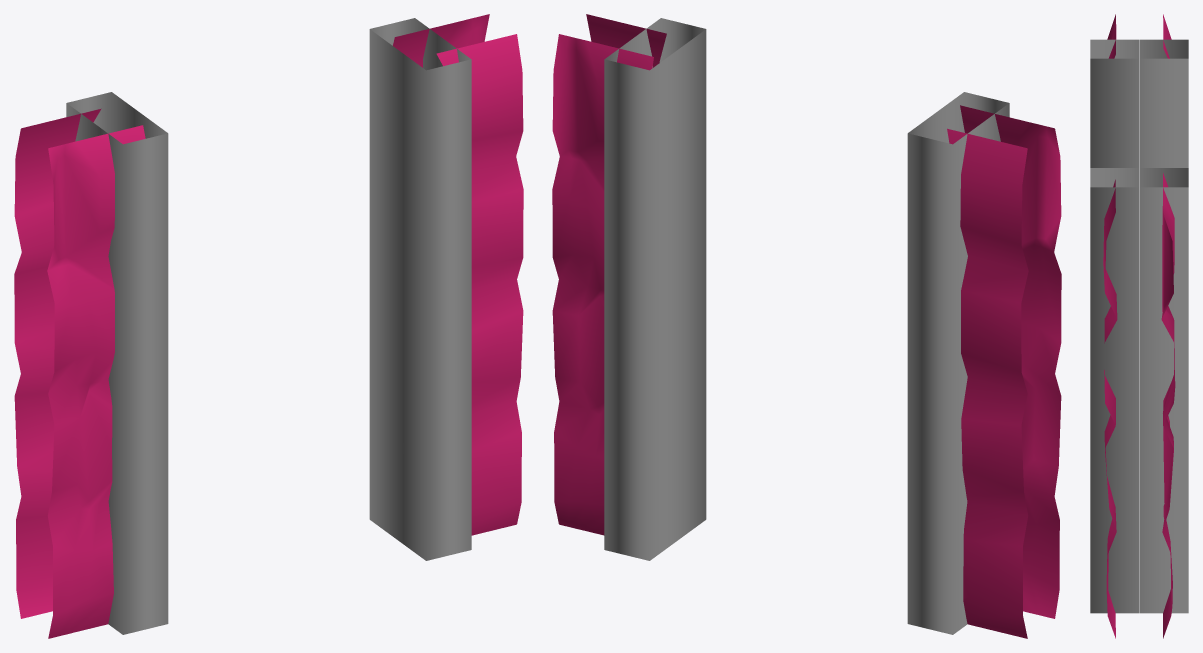
Rendered from WindowFrame_Mid_Mesh.fbx.
3 renders of one model, left to right at view 1: azimuth 30°, elevation 25°; view 2: azimuth 150°, elevation 25°; view 3: azimuth 270°, elevation 25°, orthographic. The views are drawn at different scales.
Parts seen in each view (by area): view 1: WindowFrame_Mid; view 2: WindowFrame_Mid; view 3: WindowFrame_Mid.
Part boxes in pixels (x1=…): WindowFrame_Mid: x1=14, y1=14, x2=523, y2=638; WindowFrame_Mid: x1=552, y1=14, x2=1061, y2=638; WindowFrame_Mid: x1=1090, y1=14, x2=1188, y2=638.
Bounding box in the file's own units: 100 × 100 × 20.89.
